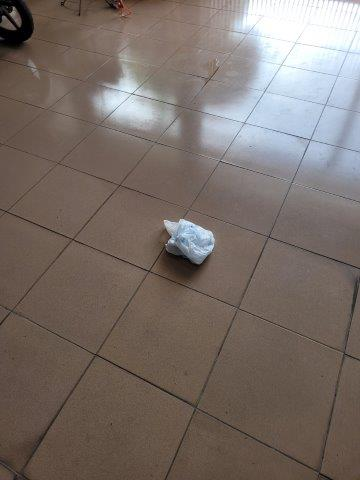plastik: (163, 217, 216, 267)
